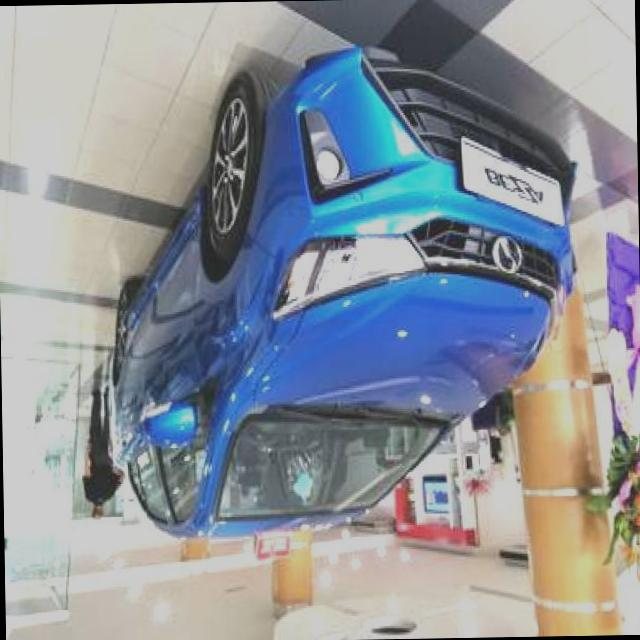PeroduaBezza: (102, 42, 583, 544)
